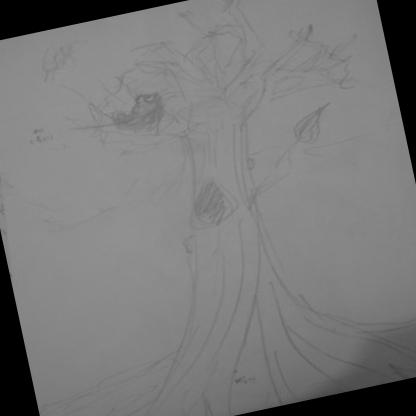knot: (185, 174, 242, 230)
trunk_bark: (146, 132, 310, 328)
